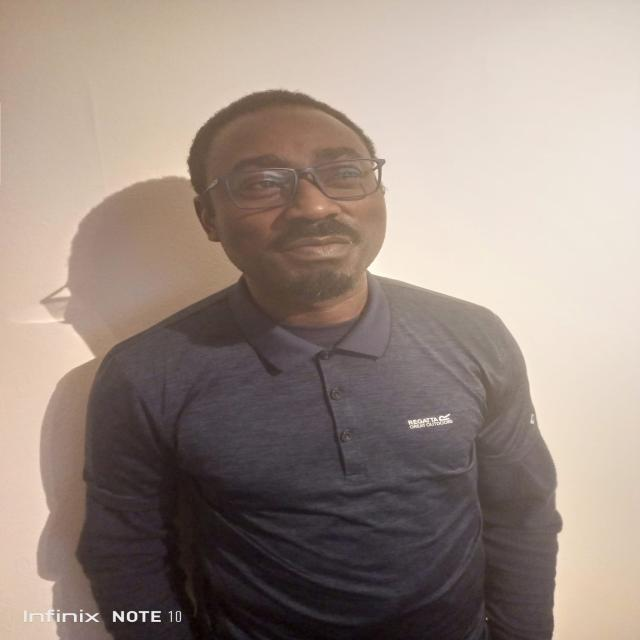happy: (180, 82, 392, 303)
